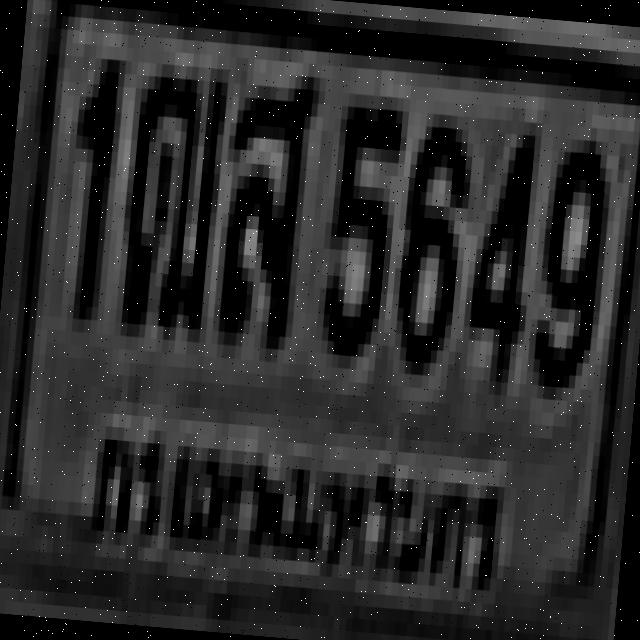1: (57, 49, 121, 320)
27ThorPhuThao: (114, 55, 228, 336)
4: (461, 116, 542, 388)
49SorSuea: (211, 59, 322, 353)
5: (318, 86, 402, 351)
6: (389, 118, 471, 370)
9: (525, 130, 614, 398)
Bangkok: (70, 399, 523, 627)
